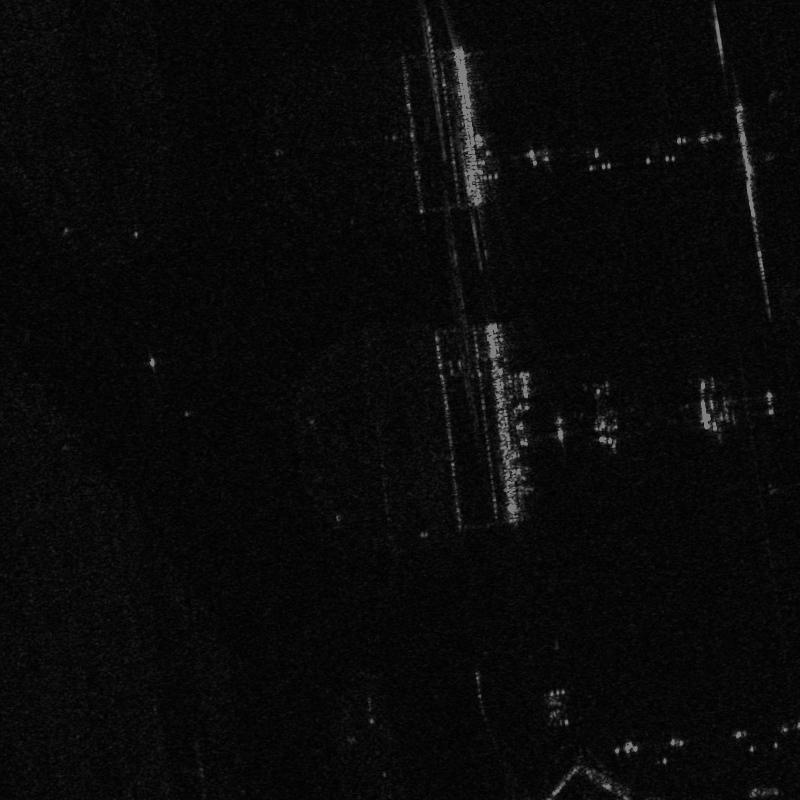A220: (572, 379, 637, 452)
